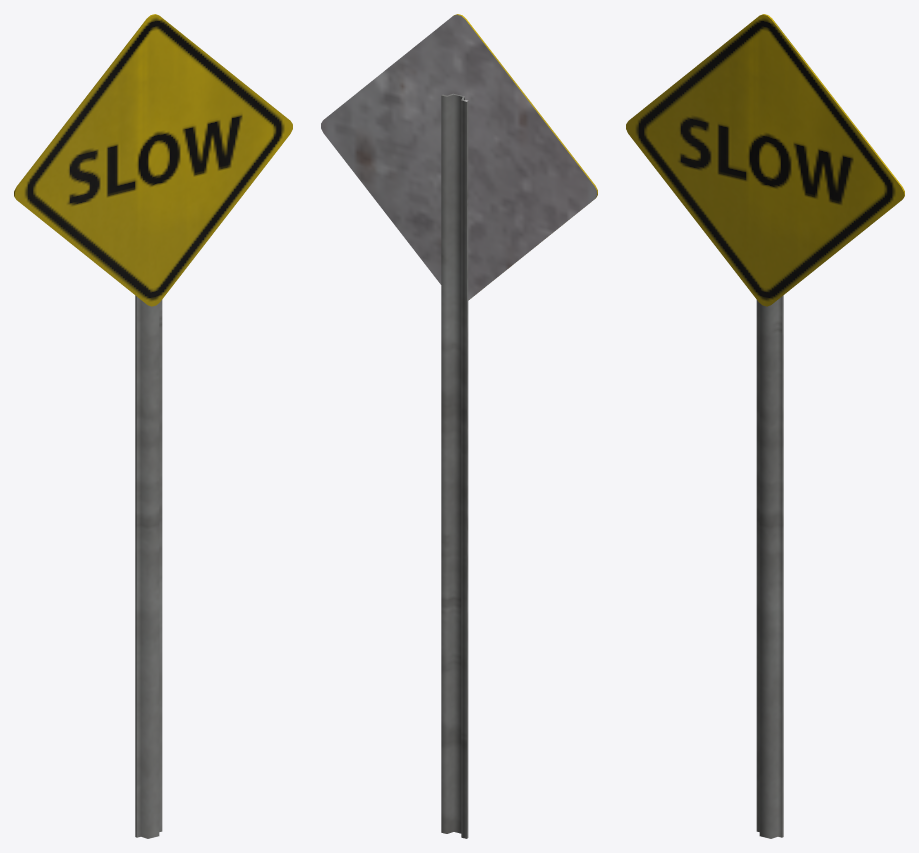
Rendered from Sign_Slow.fbx.
3 renders of one model, left to right at view 1: azimuth 30°, elevation 25°; view 2: azimuth 150°, elevation 25°; view 3: azimuth 330°, elevation 25°, orthographic.
Parts seen in each view (by area): view 1: Sign_Slow; view 2: Sign_Slow; view 3: Sign_Slow.
Part boxes in pixels (left/top/right/bottom): Sign_Slow: left=14, top=14, right=292, bottom=838; Sign_Slow: left=321, top=14, right=597, bottom=838; Sign_Slow: left=626, top=14, right=904, bottom=838.
Bounding box in the file's own units: 90.9 × 257 × 3.33.
